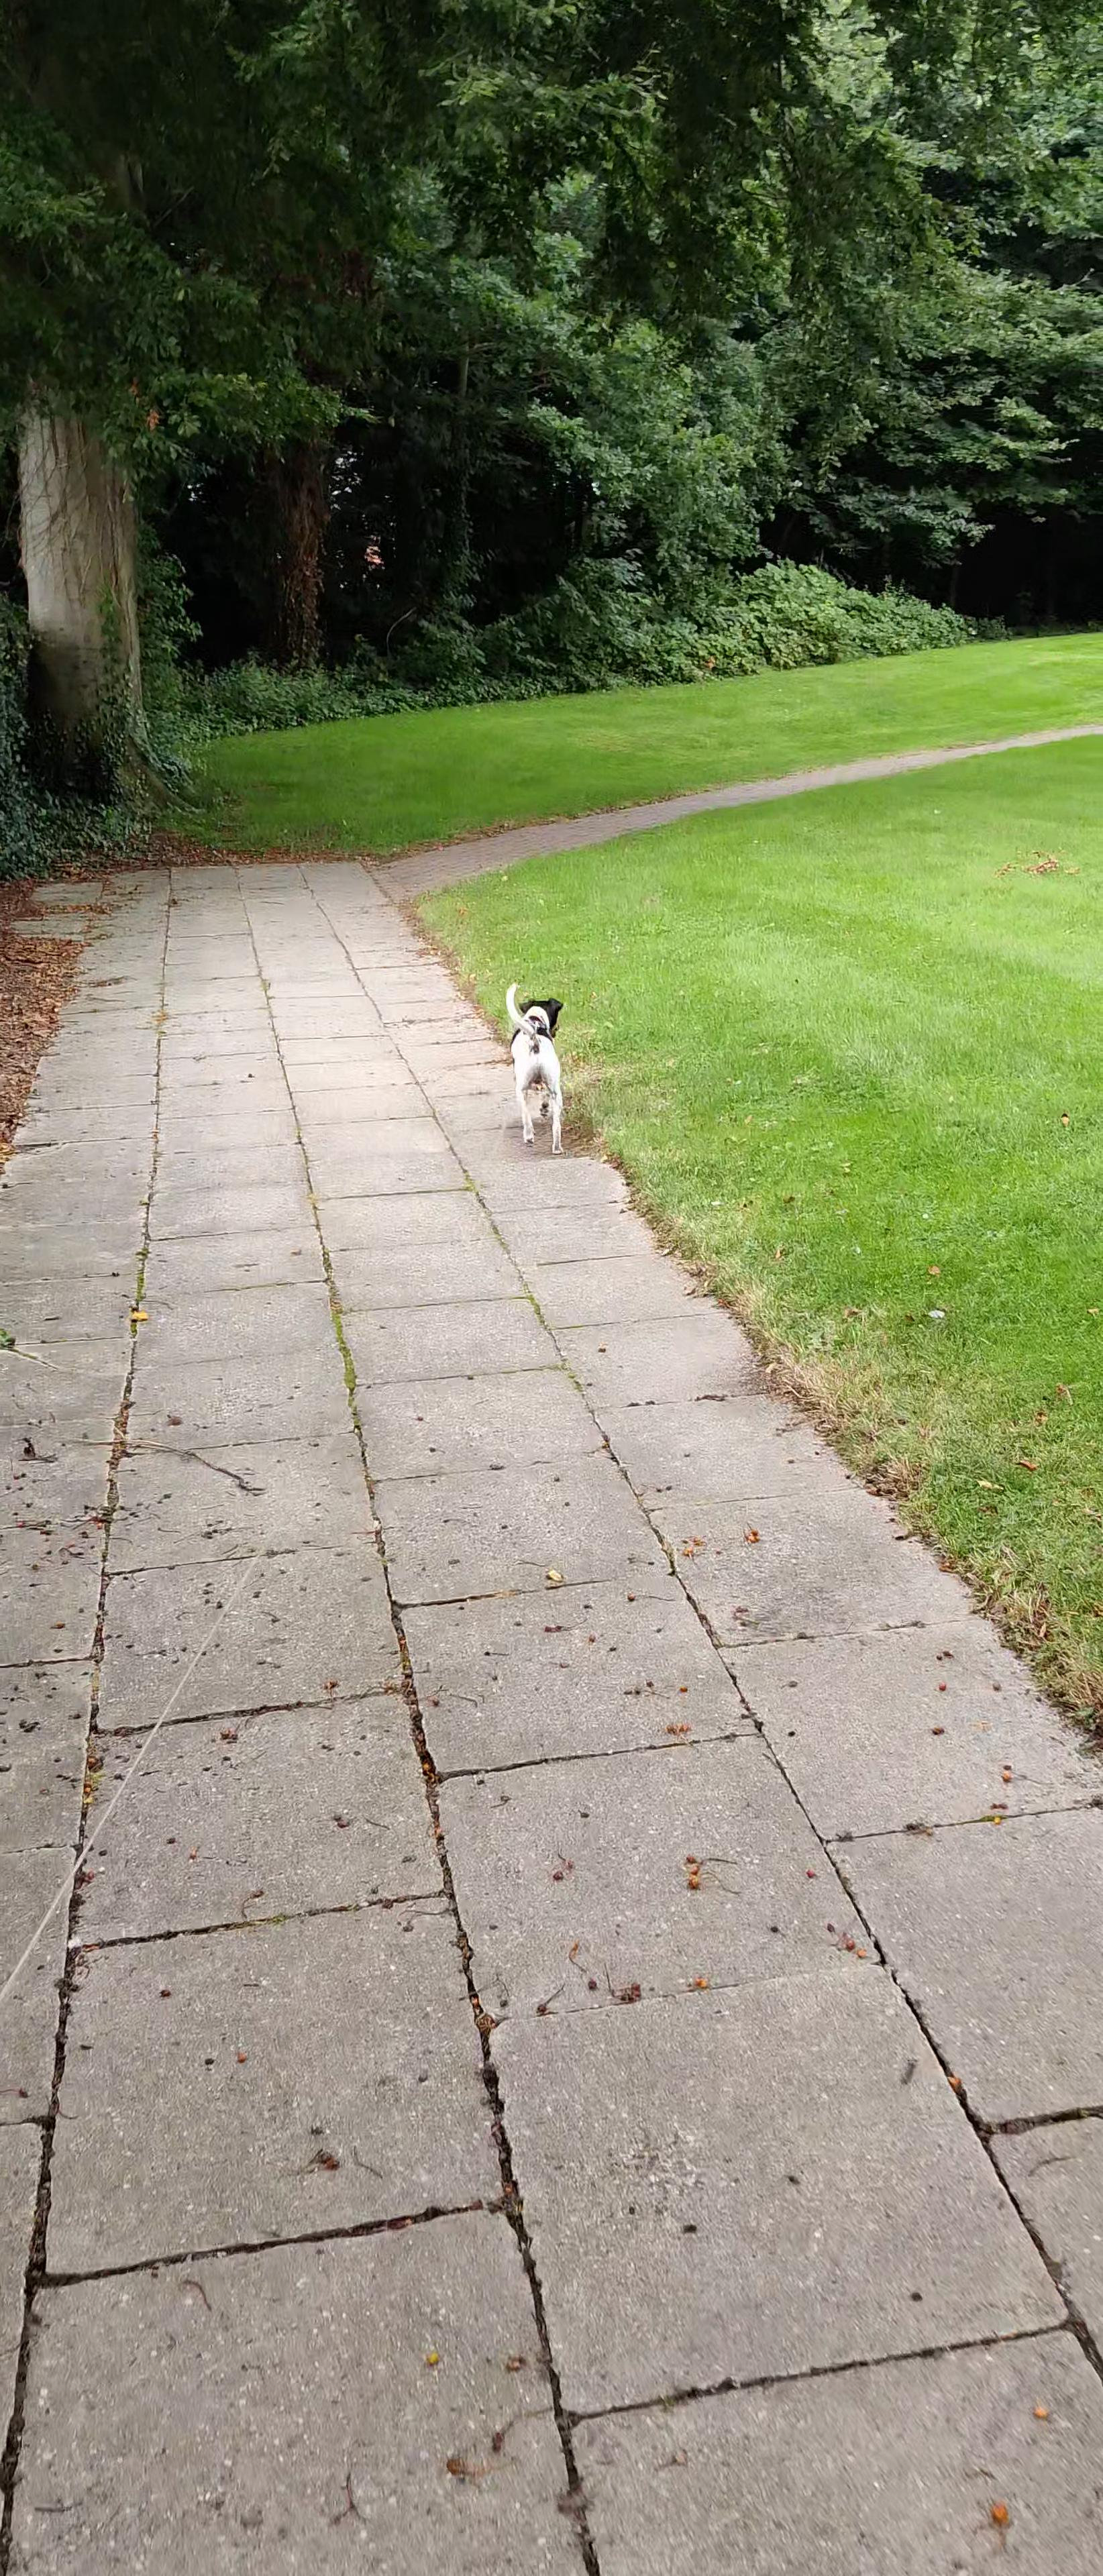Dog: (493, 976, 585, 1166)
